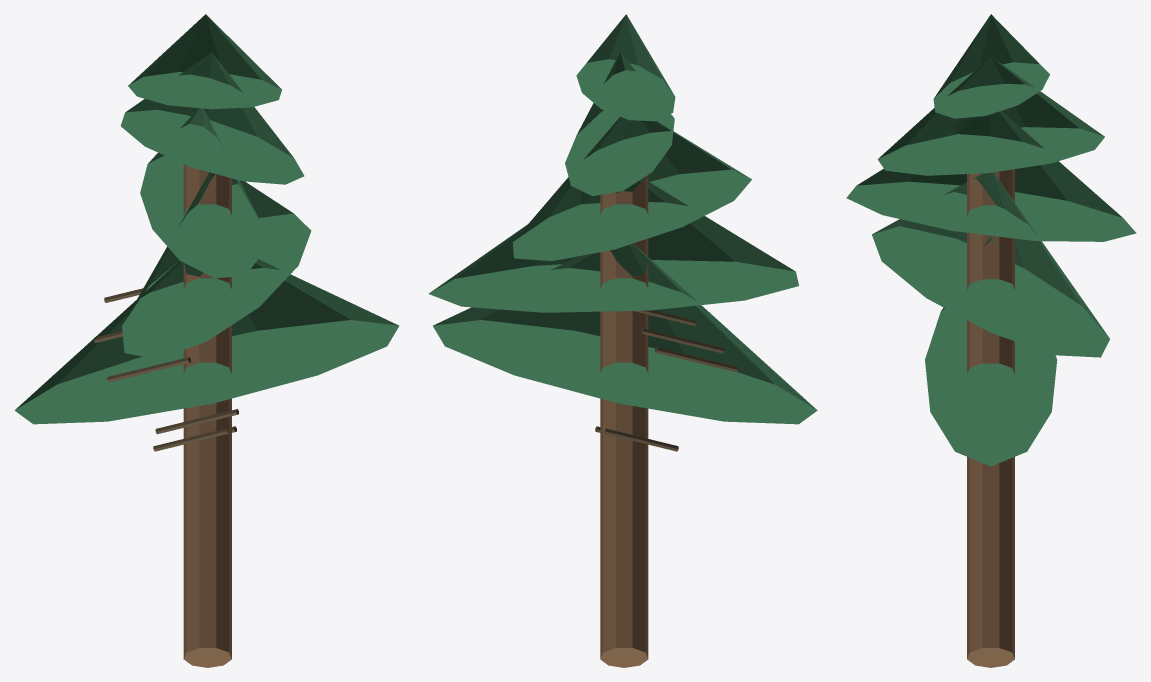
The model's file is pine_tall.gltf.
3 renders of one model, left to right at view 1: azimuth 30°, elevation 25°; view 2: azimuth 150°, elevation 25°; view 3: azimuth 270°, elevation 25°, orthographic.
Parts seen in each view (by area): view 1: pine_bough_layer_0, trunk, pine_bough_layer_1, pine_bough_layer_3, pine_bough_layer_2, pine_bough_layer_4; view 2: pine_bough_layer_0, pine_bough_layer_1, trunk, pine_bough_layer_2, pine_bough_layer_3, pine_bough_layer_4; view 3: pine_bough_layer_1, pine_bough_layer_2, trunk, pine_bough_layer_0, pine_bough_layer_3, pine_bough_layer_4.
Part boxes in pixels (box(x1,y1,x2,y2)): pine_bough_layer_0: box(14, 259, 399, 424); trunk: box(183, 164, 231, 667); pine_bough_layer_1: box(122, 172, 311, 358); pine_bough_layer_3: box(120, 52, 304, 184); pine_bough_layer_2: box(140, 108, 261, 278); pine_bough_layer_4: box(128, 14, 281, 109); pine_bough_layer_0: box(433, 243, 817, 424); pine_bough_layer_1: box(428, 178, 798, 312); trunk: box(600, 175, 648, 667); pine_bough_layer_2: box(512, 117, 751, 260); pine_bough_layer_3: box(565, 52, 674, 196); pine_bough_layer_4: box(576, 14, 675, 121); pine_bough_layer_1: box(872, 172, 1109, 357); pine_bough_layer_2: box(846, 111, 1136, 241); trunk: box(967, 169, 1014, 667); pine_bough_layer_0: box(925, 236, 1057, 466); pine_bough_layer_3: box(877, 56, 1104, 175); pine_bough_layer_4: box(933, 14, 1049, 118).
Size of the model in its own units: 7.45 by 12.2 by 5.
